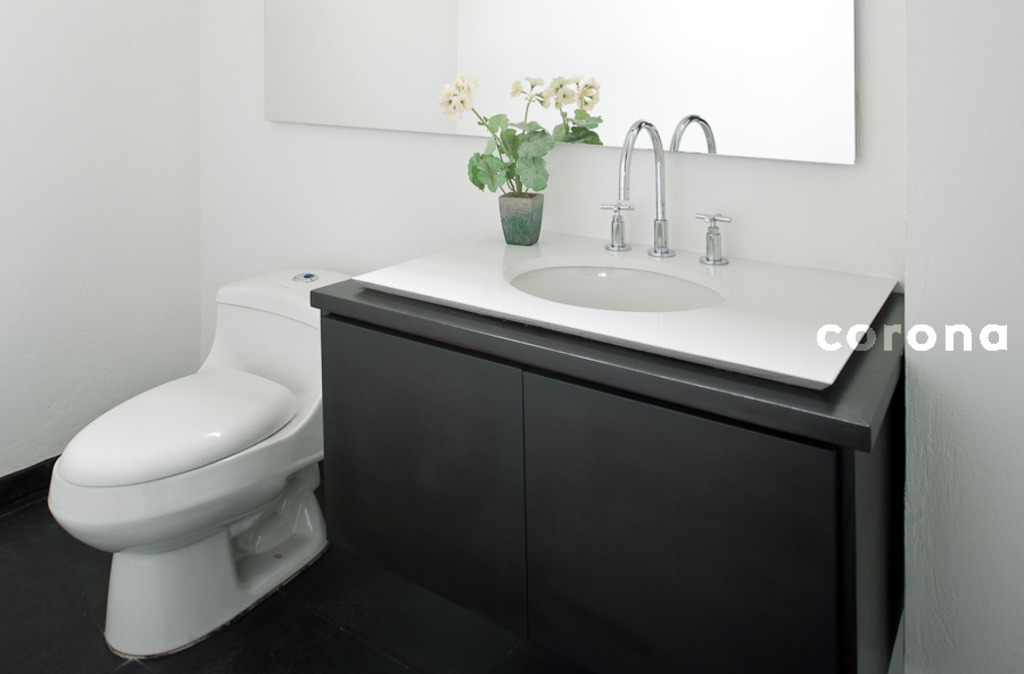tap: (617, 112, 670, 258)
